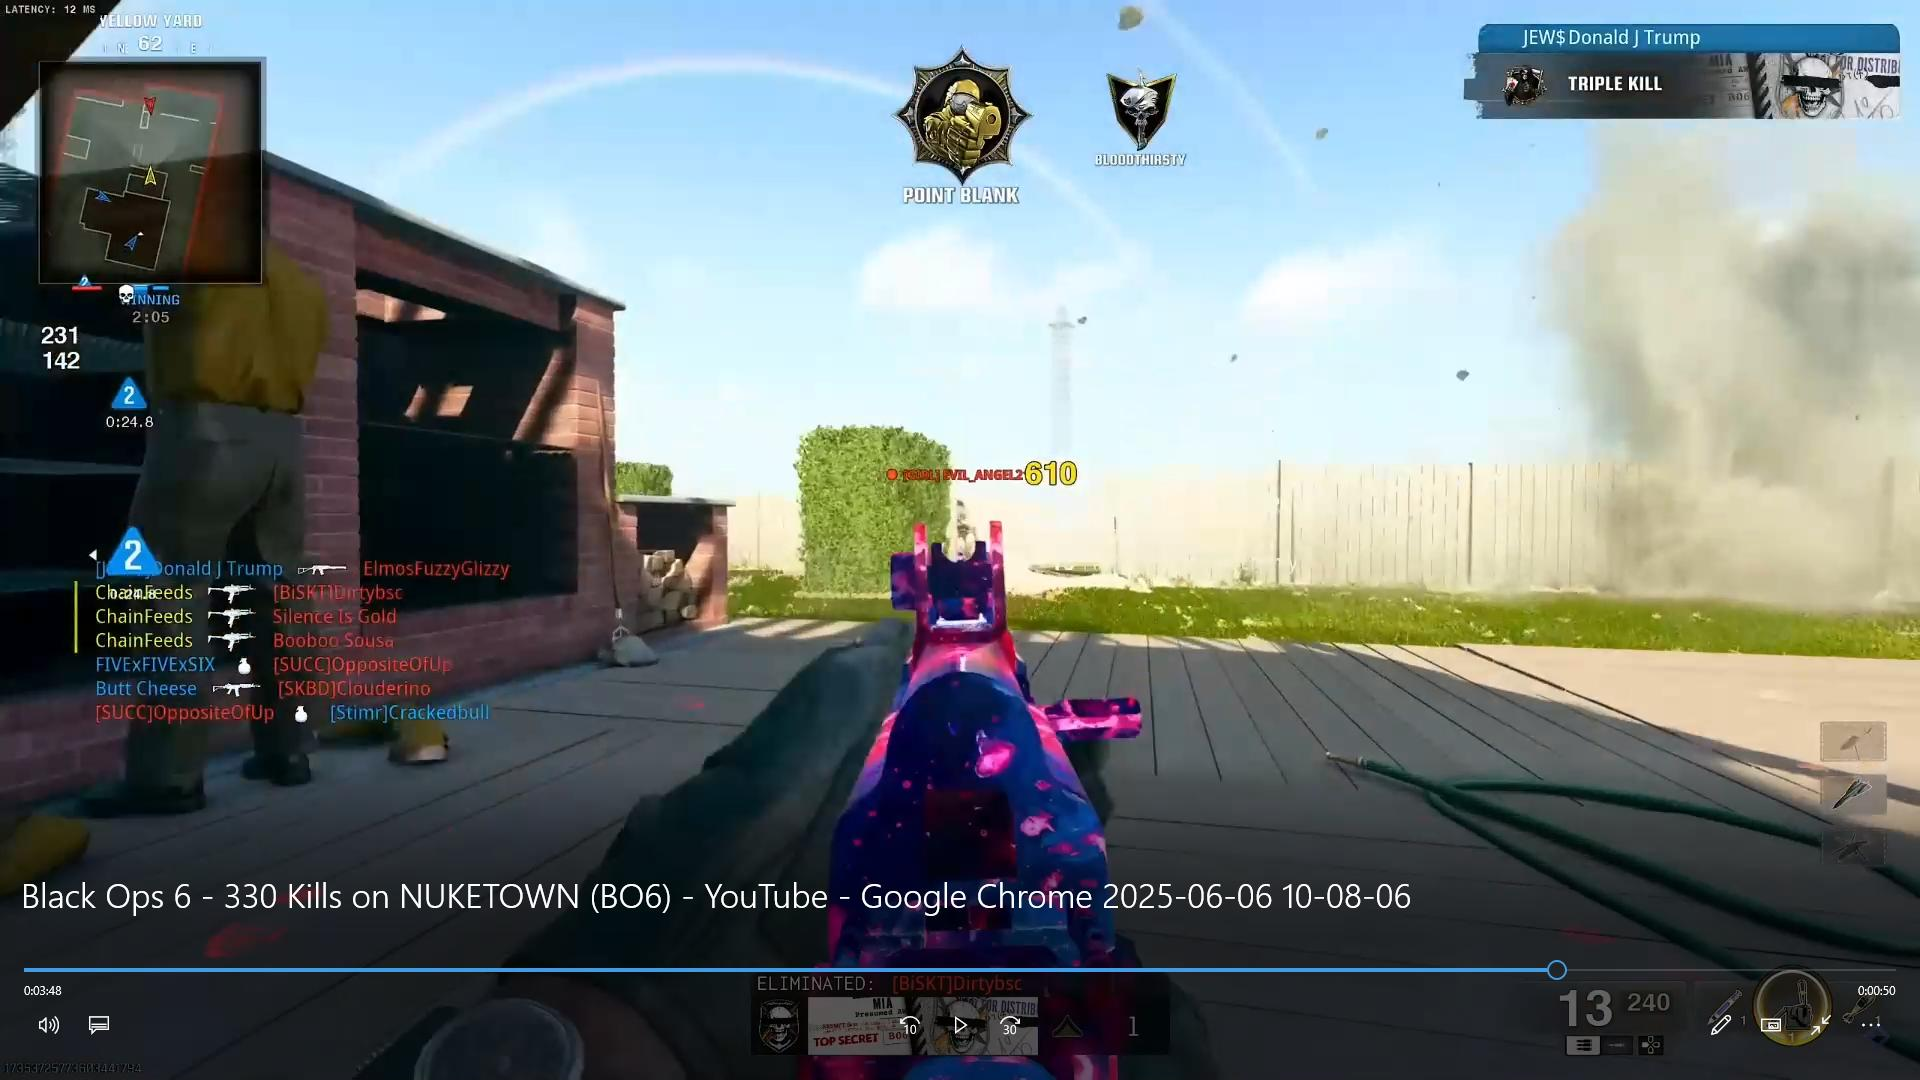Enemy: (881, 455, 1047, 554)
